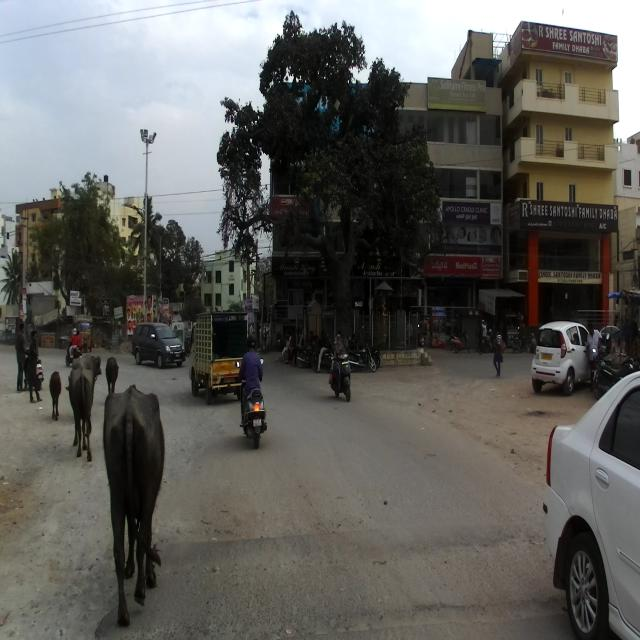cattle ahead at: (98, 378, 174, 627), (64, 356, 102, 469)
motorcycle ahead at: (231, 381, 278, 455)
